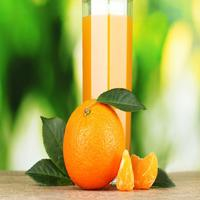orange: (67, 94, 123, 191), (119, 146, 159, 191)
